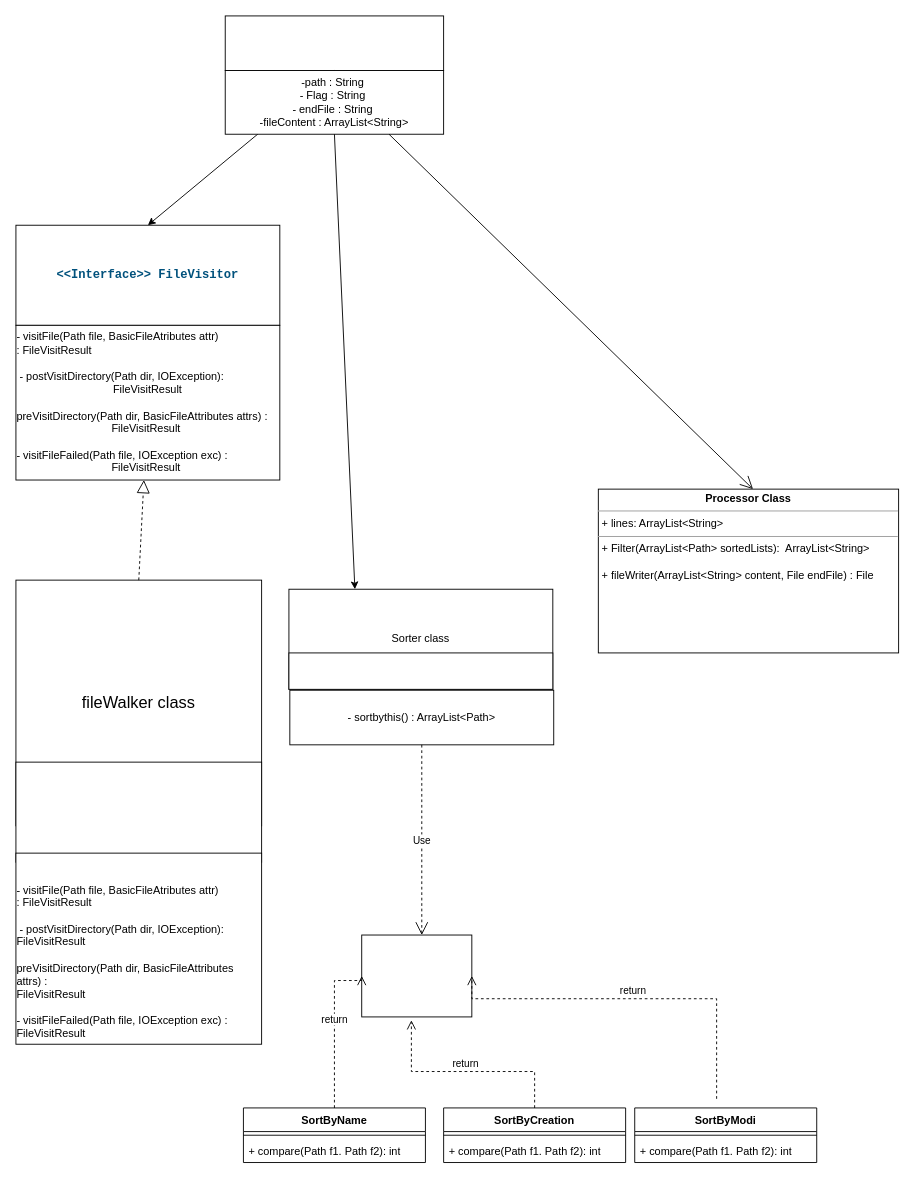
The diagram is 915 pixels wide and 1181 high, and some of its shapes have lost their labels. Each missing label, with the centre of its shape:
- ArrayList<Path> unsortedFiles - String Flag: (420,670)
ArrayList<Path> files: (138,811)
Main(driver): (334,43)
«interface» Comparator<Path>: (416,975)
